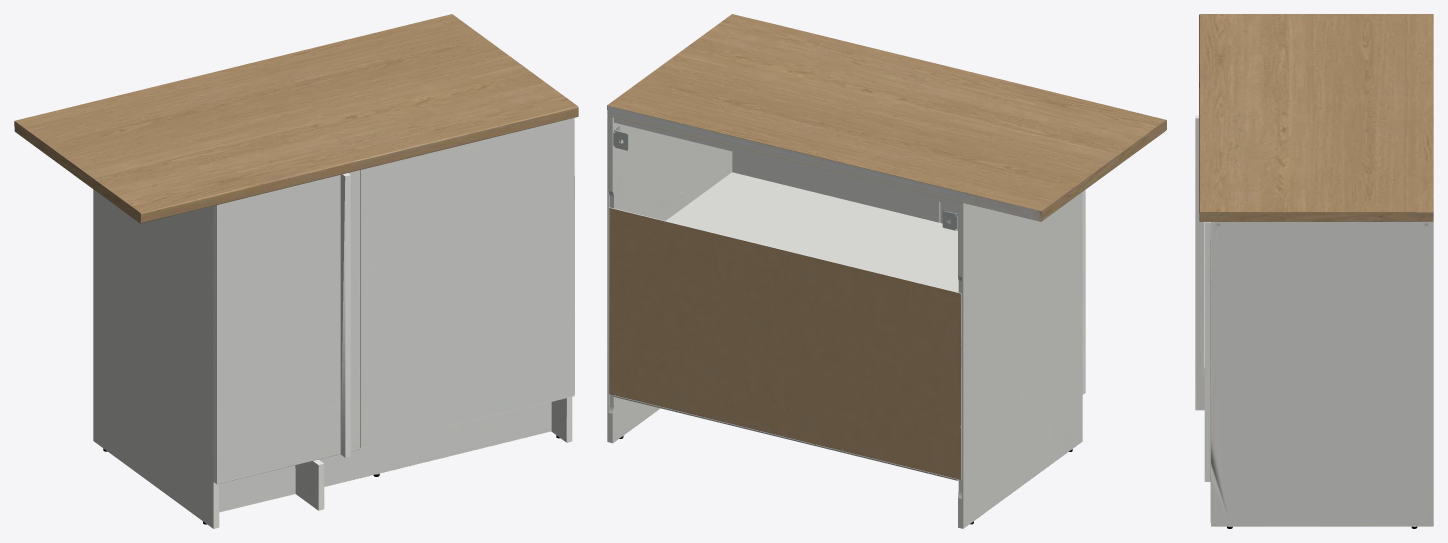
File: knoxhult-armario-bajo-cocina-esquina-blanco.glb
The picture shows the model from 3 angles, left to right: view 1: azimuth 30°, elevation 25°; view 2: azimuth 150°, elevation 25°; view 3: azimuth 270°, elevation 25°; orthographic projection. The views are drawn at different scales.
Visible parts, largest first — view 1: model; view 2: model; view 3: model.
Boxes of the visible parts, x1,y1,x2,y2 form: model: (14, 14, 578, 528); model: (607, 14, 1166, 528); model: (1195, 14, 1433, 528).
Bounding box in the file's own units: 1.22 × 0.9101 × 0.6205.
1 material, 1 textured.
